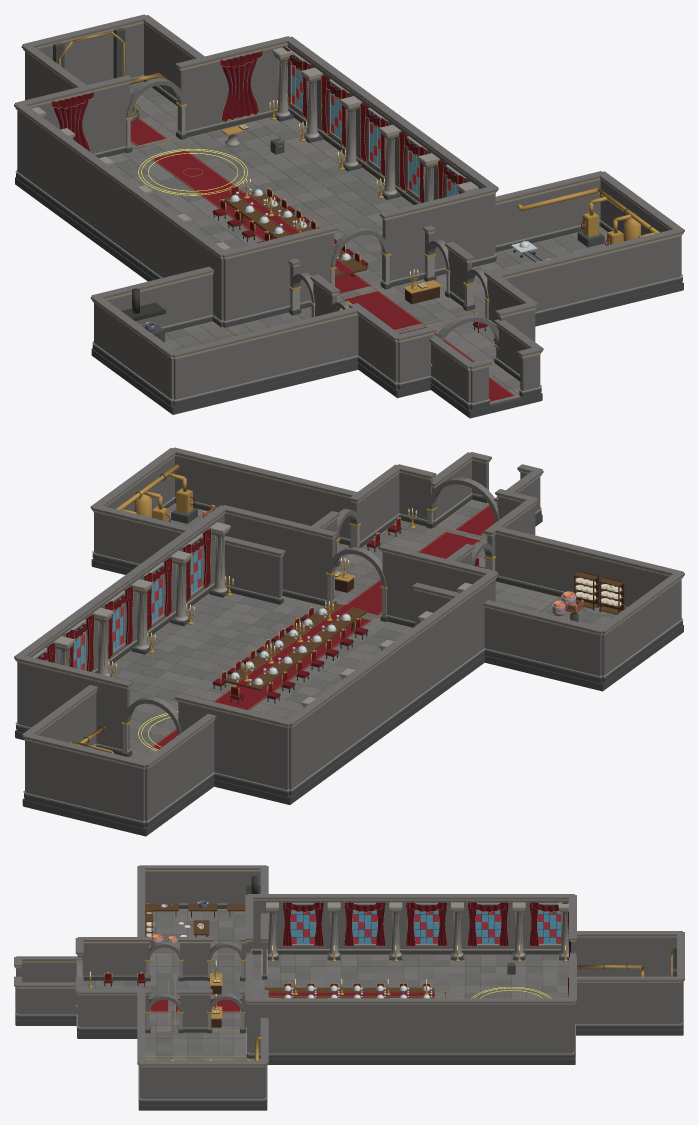
The model's file is chapter3_final_banquet.glb.
3 renders of one model, top to bottom at view 1: azimuth 30°, elevation 25°; view 2: azimuth 150°, elevation 25°; view 3: azimuth 270°, elevation 25°, orthographic. The views are drawn at different scales.
Visible parts, largest first — view 1: Walls_Foyer_Geometry, Walls_MainHall_Geometry, Floor_MainHall_Geometry, Walls_Core_Geometry, Columns_And_Windows_Geometry, Velvet_Drapery_Geometry, Carpets_Geometry, Banquet_Table_Geometry, Floor_Kitchen_Geometry, Floor_Supply_Geometry, Supply_Equipment_Geometry, Floor_Foyer_Geometry (+9 smaller); view 2: Walls_Foyer_Geometry, Walls_MainHall_Geometry, Floor_MainHall_Geometry, Walls_Core_Geometry, Columns_And_Windows_Geometry, Banquet_Table_Geometry, Carpets_Geometry, Velvet_Drapery_Geometry, Floor_Kitchen_Geometry, Supply_Equipment_Geometry, Floor_Foyer_Geometry, Kitchen_Equipment_Geometry (+7 smaller); view 3: Walls_MainHall_Geometry, Walls_Foyer_Geometry, Floor_MainHall_Geometry, Walls_Core_Geometry, Columns_And_Windows_Geometry, Velvet_Drapery_Geometry, Floor_Kitchen_Geometry, Floor_Link_1_Geometry, Banquet_Table_Geometry, Floor_Foyer_Geometry, Floor_Link_-1_Geometry, Floor_Preparation_Geometry (+7 smaller).
Part boxes in pixels (x1,y1,x2,y2): Walls_Foyer_Geometry: (90, 171, 684, 409); Walls_MainHall_Geometry: (14, 36, 498, 327); Floor_MainHall_Geometry: (15, 117, 412, 298); Walls_Core_Geometry: (21, 14, 204, 105); Columns_And_Windows_Geometry: (31, 46, 478, 250); Velvet_Drapery_Geometry: (51, 46, 465, 202); Carpets_Geometry: (130, 117, 514, 401); Banquet_Table_Geometry: (212, 178, 368, 277); Floor_Kitchen_Geometry: (91, 321, 295, 414); Floor_Supply_Geometry: (495, 227, 683, 319); Supply_Equipment_Geometry: (511, 188, 659, 262); Floor_Foyer_Geometry: (358, 313, 496, 398); Walls_Foyer_Geometry: (90, 447, 684, 682); Walls_MainHall_Geometry: (14, 505, 498, 796); Floor_MainHall_Geometry: (15, 593, 484, 804); Walls_Core_Geometry: (21, 685, 216, 827); Columns_And_Windows_Geometry: (32, 522, 471, 707); Banquet_Table_Geometry: (212, 601, 368, 704); Carpets_Geometry: (151, 505, 495, 749); Velvet_Drapery_Geometry: (39, 529, 211, 671); Floor_Kitchen_Geometry: (484, 597, 683, 691); Supply_Equipment_Geometry: (116, 464, 197, 523); Floor_Foyer_Geometry: (342, 520, 487, 569); Kitchen_Equipment_Geometry: (570, 571, 624, 621); Walls_MainHall_Geometry: (245, 894, 576, 1058); Walls_Foyer_Geometry: (14, 865, 268, 1104); Floor_MainHall_Geometry: (252, 954, 575, 1064); Walls_Core_Geometry: (575, 931, 684, 1029); Columns_And_Windows_Geometry: (266, 902, 568, 998); Velvet_Drapery_Geometry: (282, 902, 570, 997); Floor_Kitchen_Geometry: (149, 909, 245, 953); Floor_Link_1_Geometry: (145, 1031, 246, 1058); Banquet_Table_Geometry: (264, 979, 446, 998); Floor_Foyer_Geometry: (77, 979, 172, 1038); Floor_Link_-1_Geometry: (149, 953, 261, 979); Floor_Preparation_Geometry: (172, 979, 245, 1032).
Size of the model in its own units: 61.03 by 9.21 by 87.03.
Materials: 30 (6 with a texture image).
